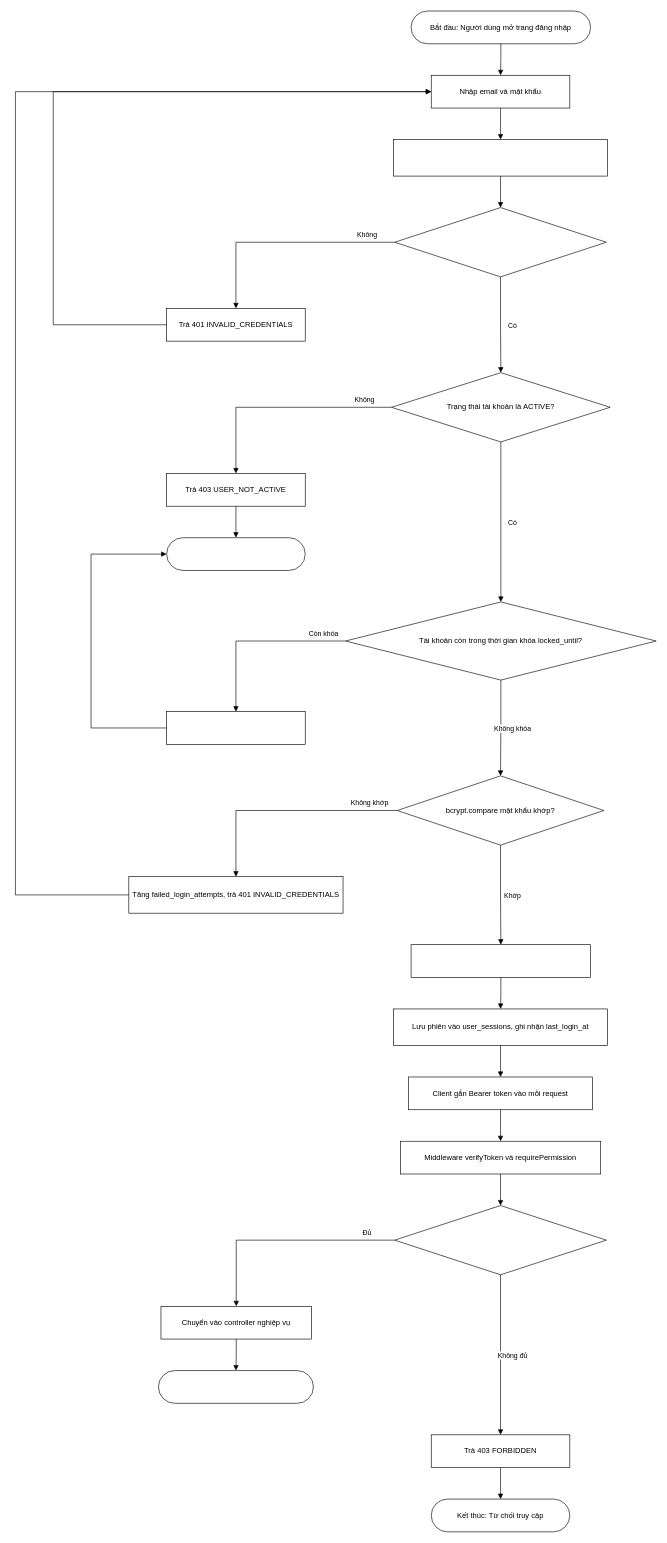
This 667x1543 diagram has some shape labels left out. The shapes that lost their labels are listed below. From the top down, each one's centre as x and y in pixels, then its label:
At point (500, 157): "POST /auth/login, qua bộ chặn tần suất loginRateLimit".
At point (500, 242): "Tìm thấy tài khoản theo email?".
At point (235, 553): "Kết thúc: Từ chối đăng nhập".
At point (235, 727): "Trả 423 USER_LOCKED".
At point (500, 960): "Sinh access token JWT và refresh token".
At point (500, 1240): "Vai trò có đủ quyền cho route?".
At point (235, 1386): "Kết thúc: Trả dữ liệu cho client".
